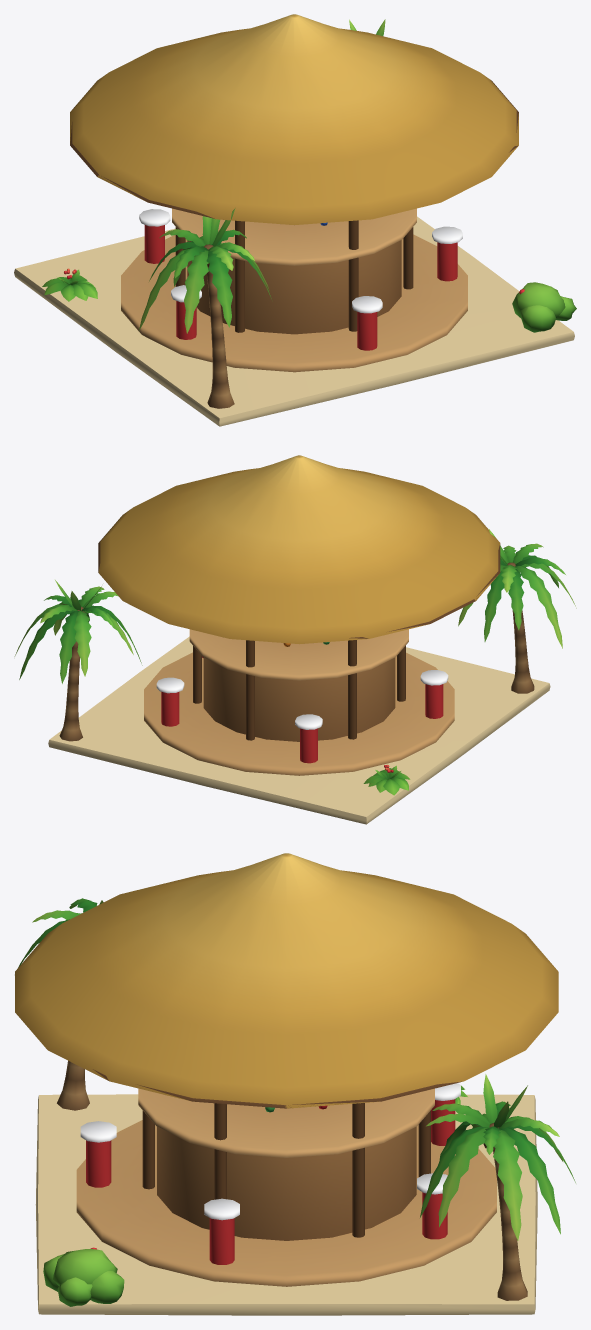
Rendered from BeachBar.obj.
The picture shows the model from 3 angles, top to bottom: view 1: azimuth 30°, elevation 25°; view 2: azimuth 150°, elevation 25°; view 3: azimuth 270°, elevation 25°; orthographic projection. The views are drawn at different scales.
Visible parts, largest first — view 1: BeachBar; view 2: BeachBar; view 3: BeachBar.
Part boxes in pixels (box(x1,y1,x2,y2)): BeachBar: box(14, 14, 576, 426); BeachBar: box(14, 455, 576, 824); BeachBar: box(15, 853, 575, 1315).
Size of the model in its own units: 5 by 3.14 by 4.49.
1 material, 1 textured.
